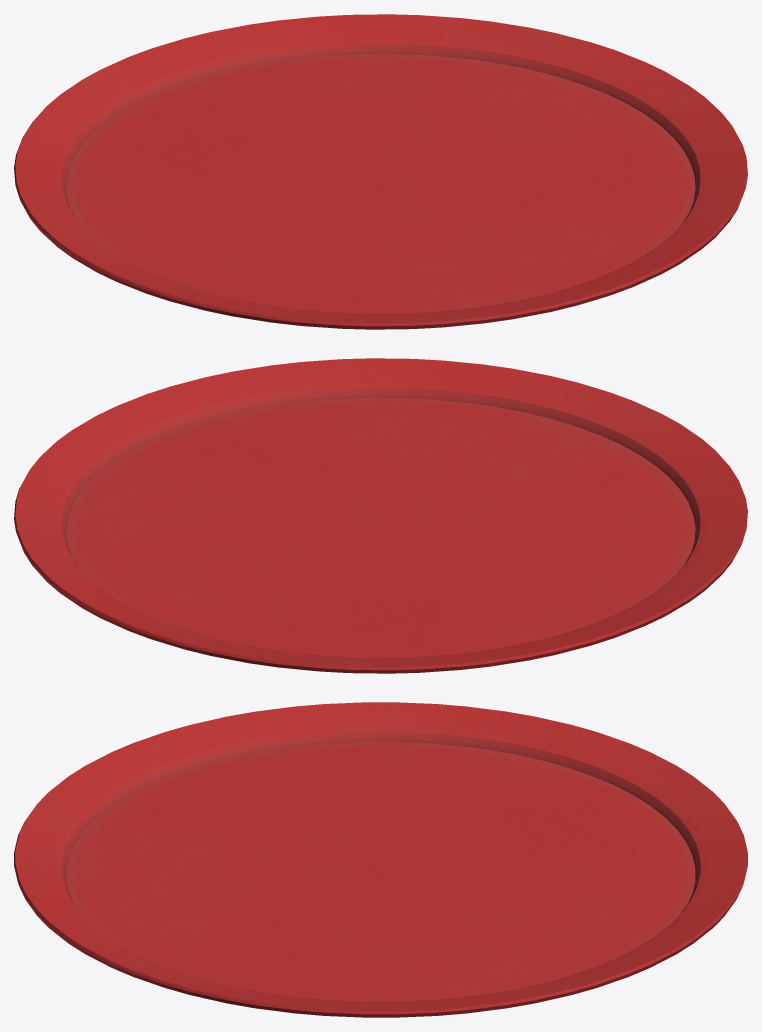
The model's file is SM_Dish_01.fbx.
3 renders of one model, top to bottom at view 1: azimuth 30°, elevation 25°; view 2: azimuth 150°, elevation 25°; view 3: azimuth 270°, elevation 25°, orthographic.
Parts seen in each view (by area): view 1: SM_Dish_01_LOD0; view 2: SM_Dish_01_LOD0; view 3: SM_Dish_01_LOD0.
Boxes of the visible parts, x1,y1,x2,y2 form: SM_Dish_01_LOD0: [14, 14, 747, 329]; SM_Dish_01_LOD0: [14, 358, 747, 673]; SM_Dish_01_LOD0: [14, 702, 747, 1017].
Size of the model in its own units: 37.36 by 37.36 by 1.41.
1 material, 1 textured.
